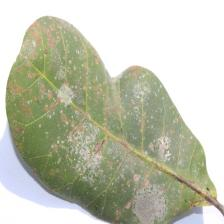red rust: (5, 14, 223, 224)
